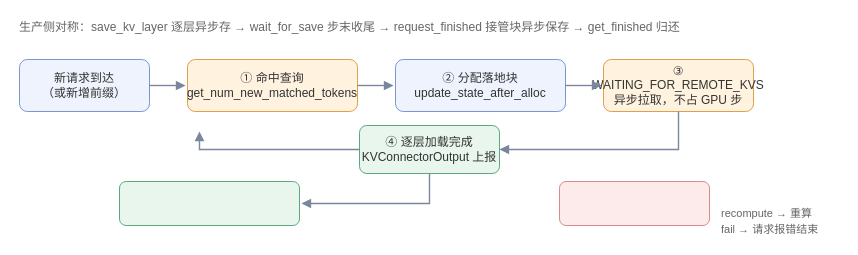
This 858x255 diagram has some shape labels left out. The shapes that lost their labels are listed below. From the top down, each one's centre as x and y in pixels, then its label:
At pixel 209 203: "⑤ 放回调度队列 从命中位置继续 prefill".
At pixel 634 203: "加载失败（坏块上报） kv_load_failure_policy".
